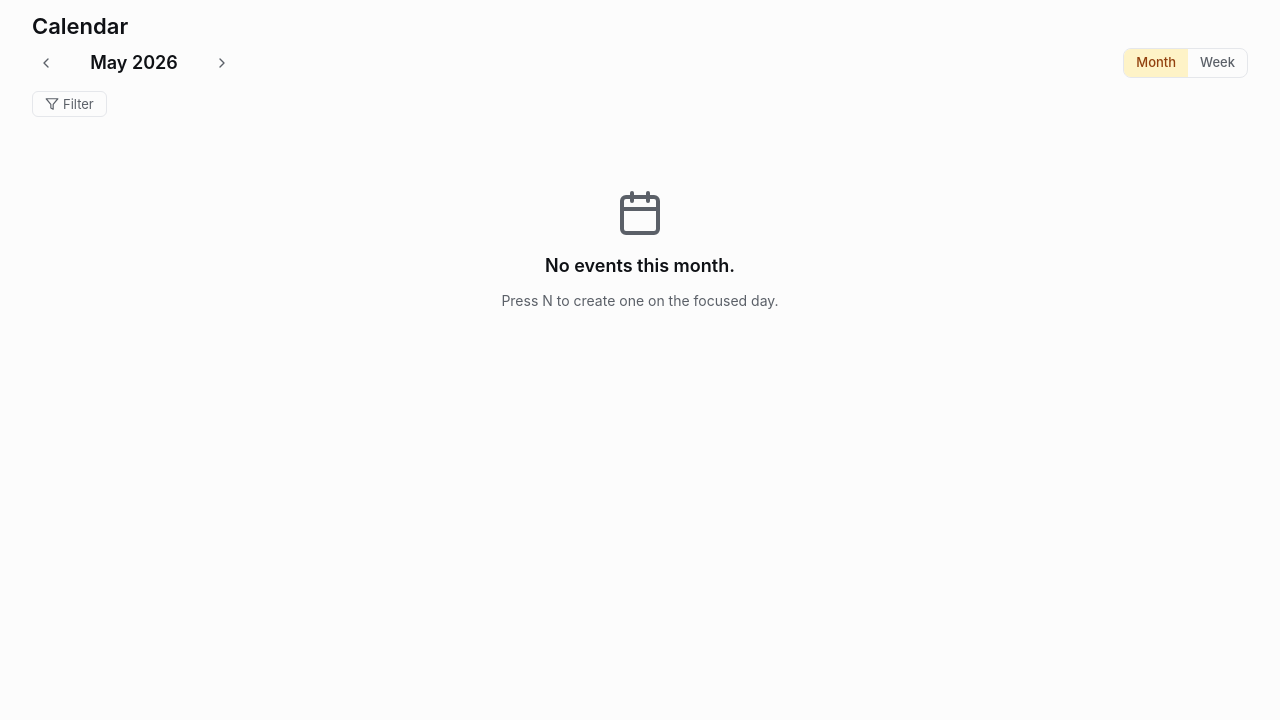
CalendarMonthView — filter chips › completed item chip has data-completed attribute when show_completed is active
Click the button "Filter". click: (69, 104)
box: [32,90,107,116]
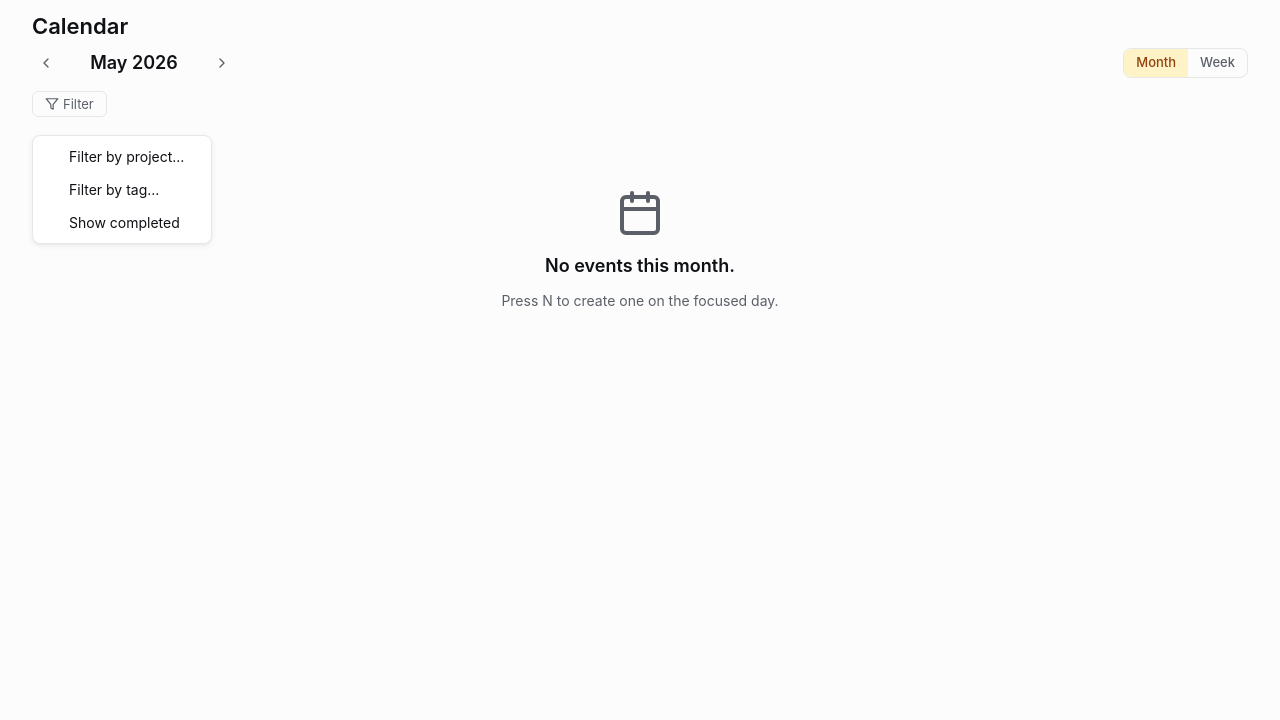
Click the menu item "Show completed". click: (122, 222)
box: [33,206,211,238]
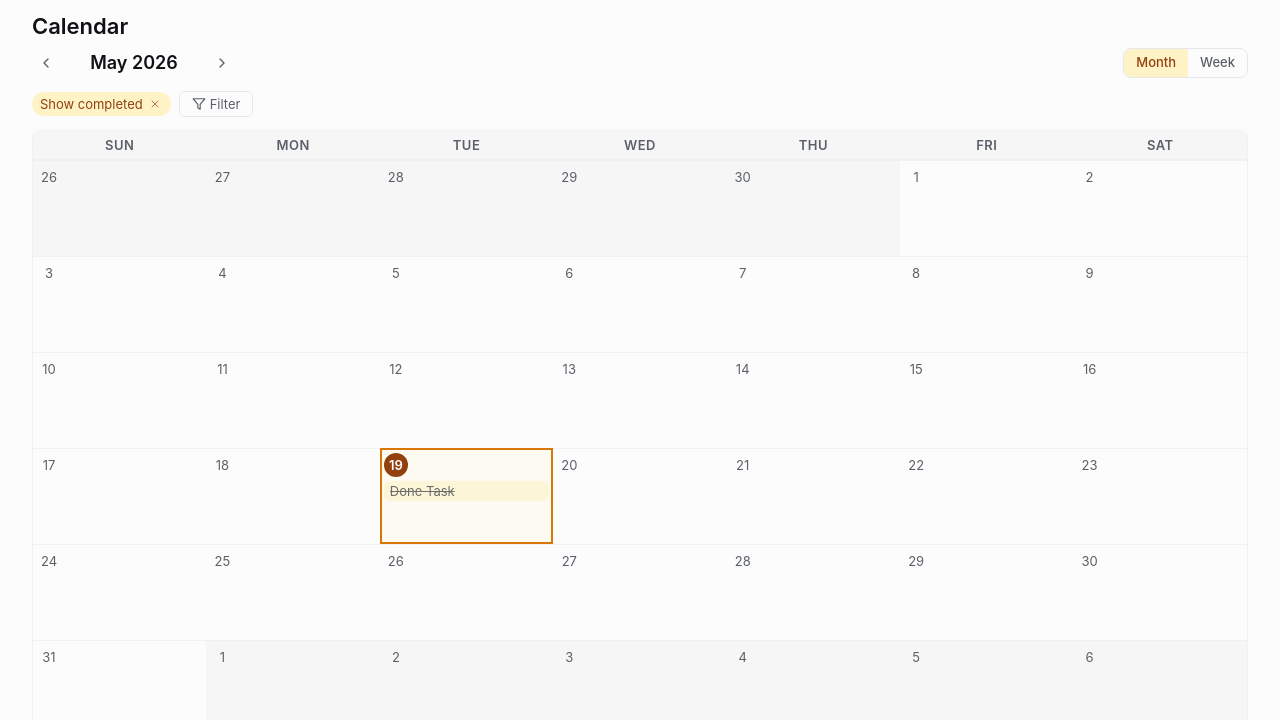
expect the button "Done Task" is shown: met, box [384,480,549,501]
